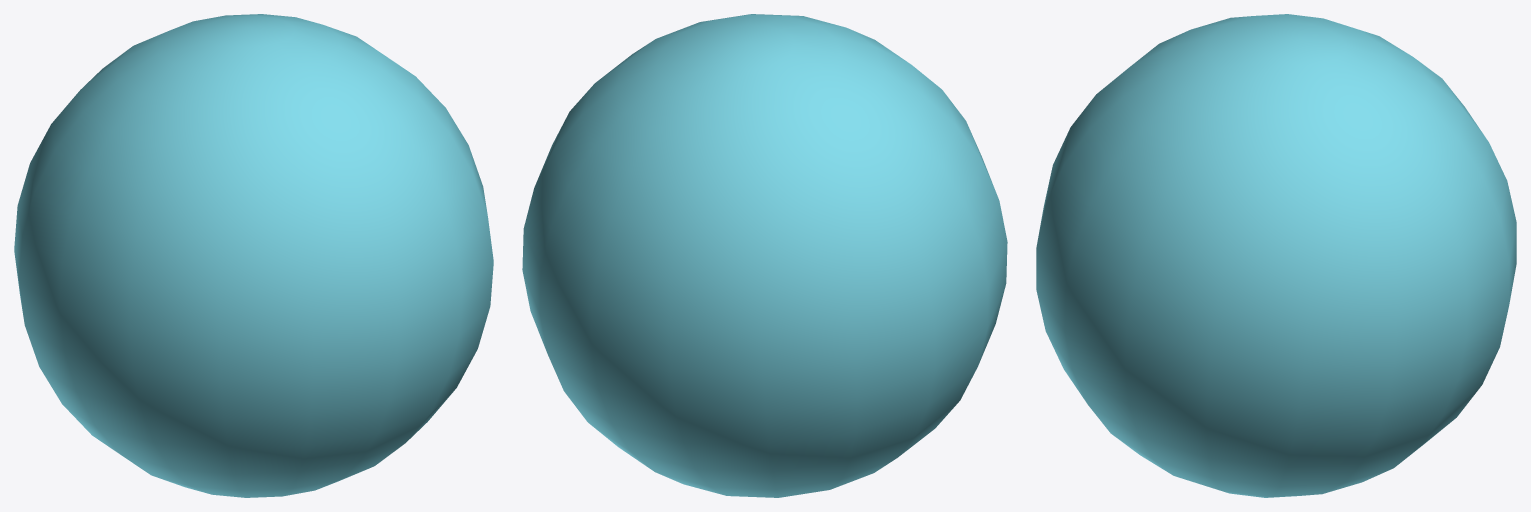
3 renders of one model, left to right at view 1: azimuth 30°, elevation 25°; view 2: azimuth 150°, elevation 25°; view 3: azimuth 270°, elevation 25°, orthographic.
Parts seen in each view (by area): view 1: orb1.006; view 2: orb1.006; view 3: orb1.006.
Part boxes in pixels (left/top/right/bottom): orb1.006: left=14, top=14, right=493, bottom=497; orb1.006: left=522, top=14, right=1007, bottom=497; orb1.006: left=1036, top=14, right=1516, bottom=497.
Size of the model in its own units: 0.397 by 0.3982 by 0.3954.
